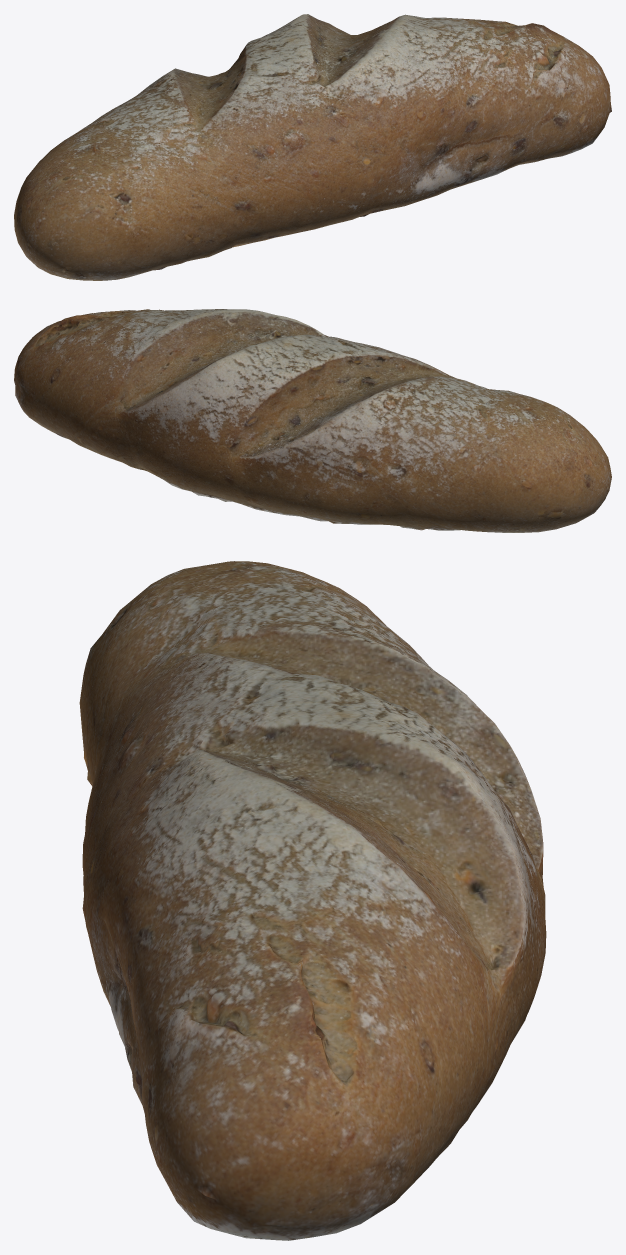
File: food-bread.glb
3 views of the same model, one above another, from view 1: azimuth 30°, elevation 25°; view 2: azimuth 150°, elevation 25°; view 3: azimuth 270°, elevation 25° (orthographic). The views are drawn at different scales.
Visible parts, largest first — view 1: food-bread; view 2: food-bread; view 3: food-bread.
Part boxes in pixels (x1=…): food-bread: x1=14, y1=14, x2=611, y2=280; food-bread: x1=14, y1=309, x2=611, y2=532; food-bread: x1=79, y1=561, x2=546, y2=1240.
Bounding box in the file's own units: 0.1559 × 0.0383 × 0.0557.
Materials: 1 (1 with a texture image).
